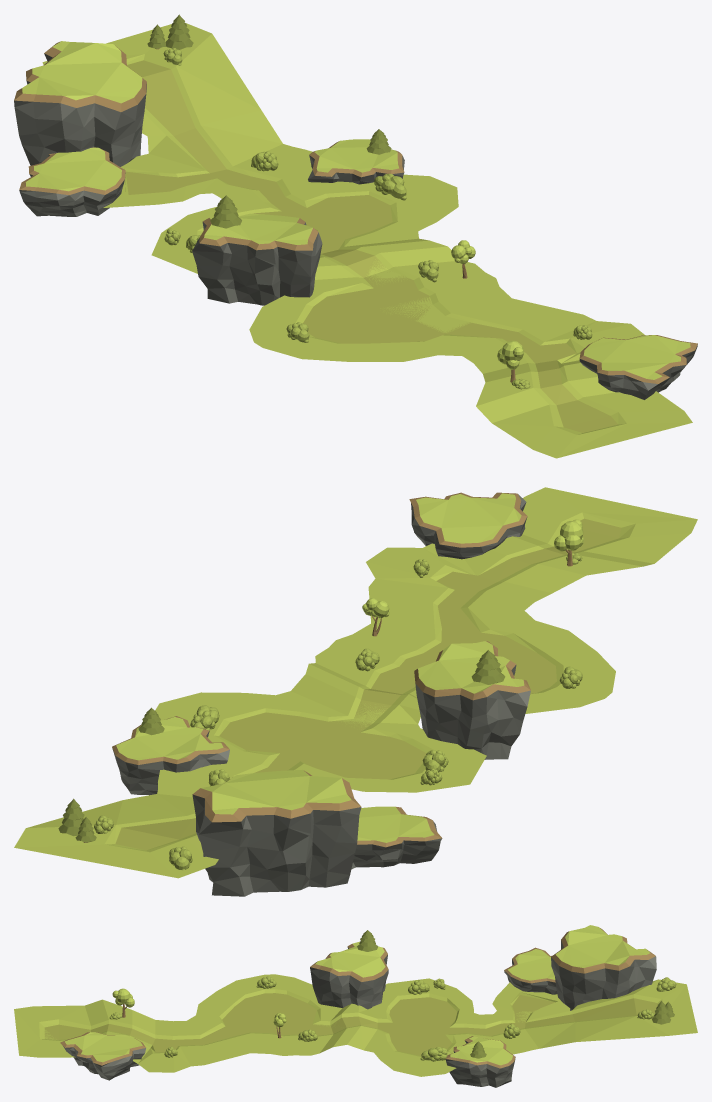
The model's file is newMapWalls.dae.
The picture shows the model from 3 angles, top to bottom: view 1: azimuth 30°, elevation 25°; view 2: azimuth 150°, elevation 25°; view 3: azimuth 270°, elevation 25°; orthographic projection. The views are drawn at different scales.
Parts seen in each view (by area): view 1: walls, road, clif_003, clif, clif_004, clif_002, clif_001; view 2: walls, road, clif_003, clif, clif_002, clif_001, clif_004, tree1, pine_001; view 3: walls, road, clif_003, clif, clif_002, clif_001, clif_004, tree1, bushes_006, pine_001, pine_002.
Part boxes in pixels (box(x1,y1,x2,y2)): walls: box(42, 23, 692, 458); road: box(125, 60, 617, 432); clif_003: box(14, 41, 146, 166); clif: box(192, 213, 322, 305); clif_004: box(19, 147, 125, 216); clif_002: box(579, 335, 697, 399); clif_001: box(308, 139, 404, 184); walls: box(14, 487, 697, 878); road: box(115, 518, 621, 850); clif_003: box(192, 769, 361, 896); clif: box(414, 641, 530, 759); clif_002: box(409, 492, 527, 559); clif_001: box(112, 716, 229, 795); clif_004: box(351, 806, 442, 869); tree1: box(554, 519, 583, 566); pine_001: box(471, 650, 505, 684); walls: box(14, 974, 697, 1076); road: box(44, 993, 657, 1055); clif_003: box(551, 925, 656, 1010); clif: box(310, 941, 388, 1009); clif_002: box(60, 1032, 145, 1080); clif_001: box(445, 1036, 515, 1087); clif_004: box(504, 947, 557, 994); tree1: box(112, 988, 134, 1017); bushes_006: box(420, 1047, 451, 1061); pine_001: box(357, 930, 378, 951); pine_002: box(652, 1001, 670, 1024).
Bounding box in the file's own units: 73.08 × 182 × 22.6.
